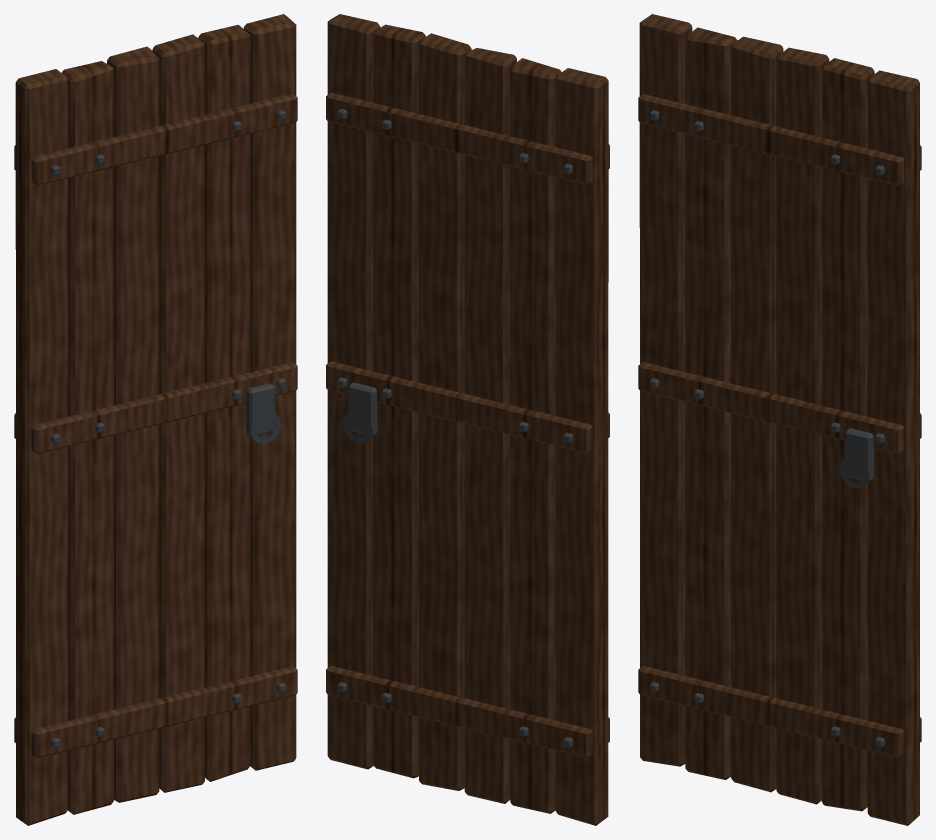
Rendered from door_wood.glb.
The picture shows the model from 3 angles, left to right: view 1: azimuth 30°, elevation 25°; view 2: azimuth 150°, elevation 25°; view 3: azimuth 330°, elevation 25°; orthographic projection.
Visible parts, largest first — view 1: door_wood; view 2: door_wood; view 3: door_wood.
Part boxes in pixels (left/top/right/bottom): door_wood: left=14, top=14, right=297, bottom=825; door_wood: left=326, top=14, right=609, bottom=825; door_wood: left=638, top=14, right=921, bottom=825.
Bounding box in the file's own units: 0.7941 × 2.08 × 0.18.
2 materials, 1 textured.
